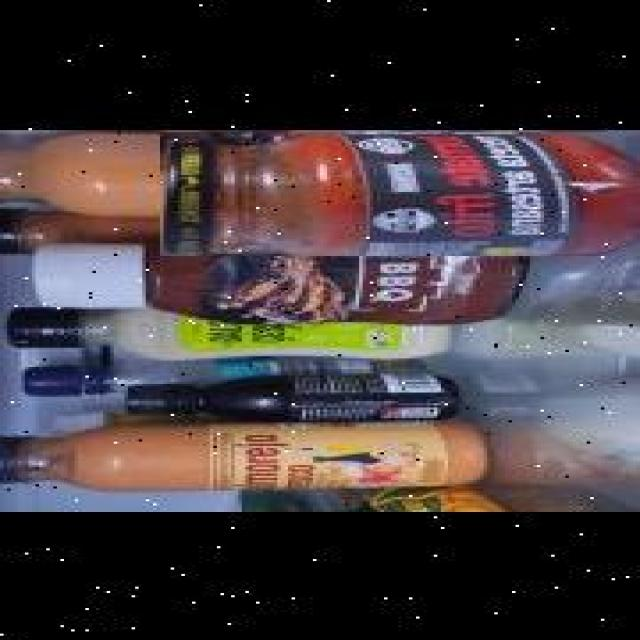tomato_sauce: (160, 130, 640, 254)
